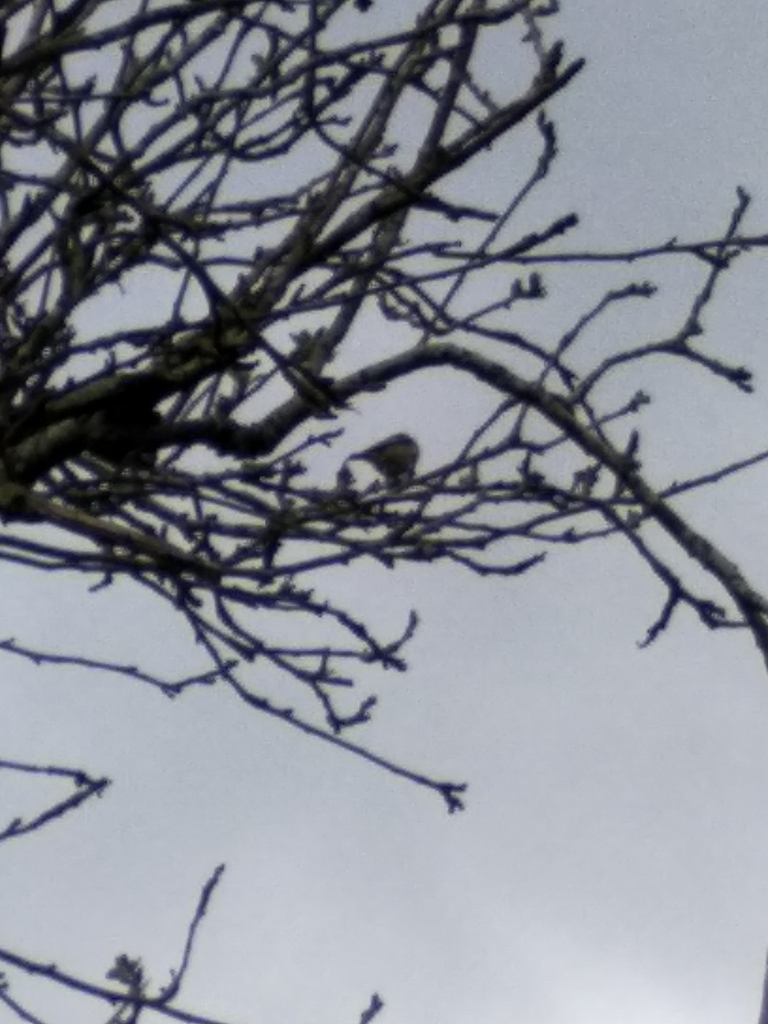Periparus_ater: (346, 431, 423, 484)
